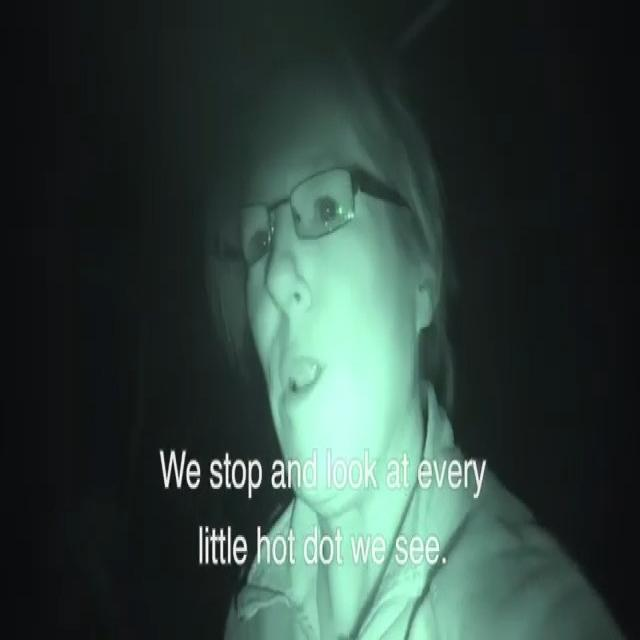human: (176, 0, 635, 640)
